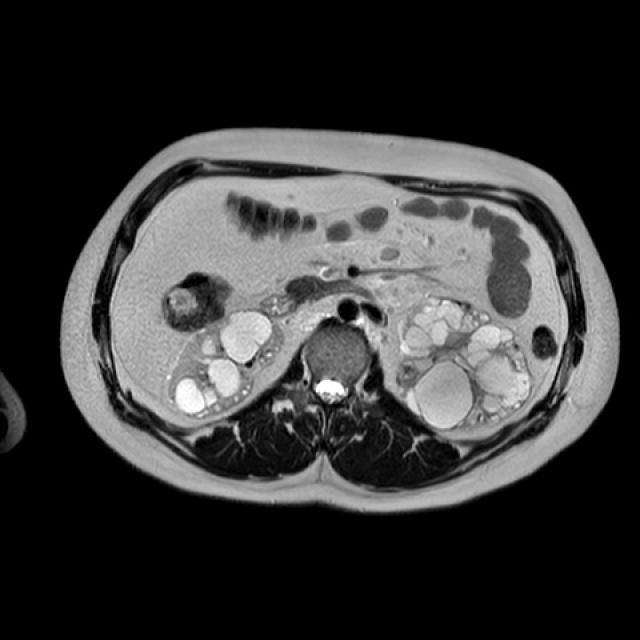sag: (169, 308, 285, 420)
sol: (399, 295, 531, 432)
